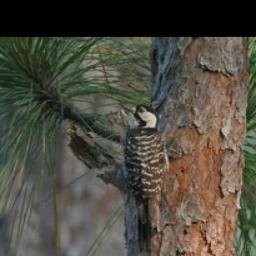Woodpecker: (117, 103, 184, 256)
